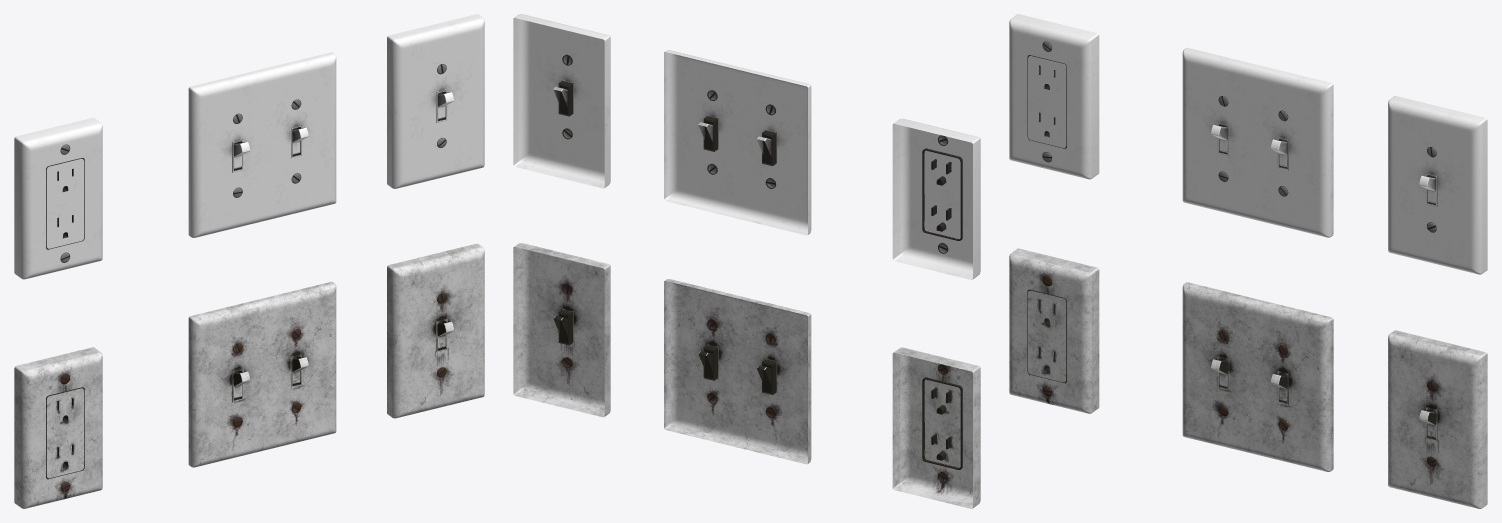
The model's file is light_switch_outlet_-_7mb_-_2part.glb.
3 views of the same model, side by side, from view 1: azimuth 30°, elevation 25°; view 2: azimuth 150°, elevation 25°; view 3: azimuth 330°, elevation 25° (orthographic). The views are drawn at different scales.
Visible parts, largest first — view 1: Wall_Plate_6, Wall_Plate_3, Wall_Plate_2, Wall_Plate_5, Wall_Plate, Wall_Plate_4; view 2: Wall_Plate_6, Wall_Plate_3, Wall_Plate_2, Wall_Plate_5, Wall_Plate_4, Wall_Plate; view 3: Wall_Plate_3, Wall_Plate_6, Wall_Plate_5, Wall_Plate_2, Wall_Plate, Wall_Plate_4.
Part boxes in pixels (x1,y1,x2,y2): Wall_Plate_6: (188, 281, 336, 467); Wall_Plate_3: (188, 52, 336, 237); Wall_Plate_2: (387, 14, 484, 188); Wall_Plate_5: (387, 243, 484, 418); Wall_Plate: (14, 117, 102, 279); Wall_Plate_4: (14, 347, 102, 508); Wall_Plate_6: (664, 279, 811, 464); Wall_Plate_3: (664, 50, 811, 235); Wall_Plate_2: (513, 14, 610, 188); Wall_Plate_5: (513, 243, 610, 417); Wall_Plate_4: (892, 347, 980, 508); Wall_Plate: (892, 118, 980, 279); Wall_Plate_3: (1182, 47, 1333, 237); Wall_Plate_6: (1182, 282, 1333, 471); Wall_Plate_5: (1388, 330, 1487, 508); Wall_Plate_2: (1388, 96, 1487, 274); Wall_Plate: (1009, 14, 1099, 179); Wall_Plate_4: (1009, 248, 1099, 413).
Bounding box in the file's own units: 0.4014 × 0.3143 × 0.0291.
2 materials, 2 textured.
